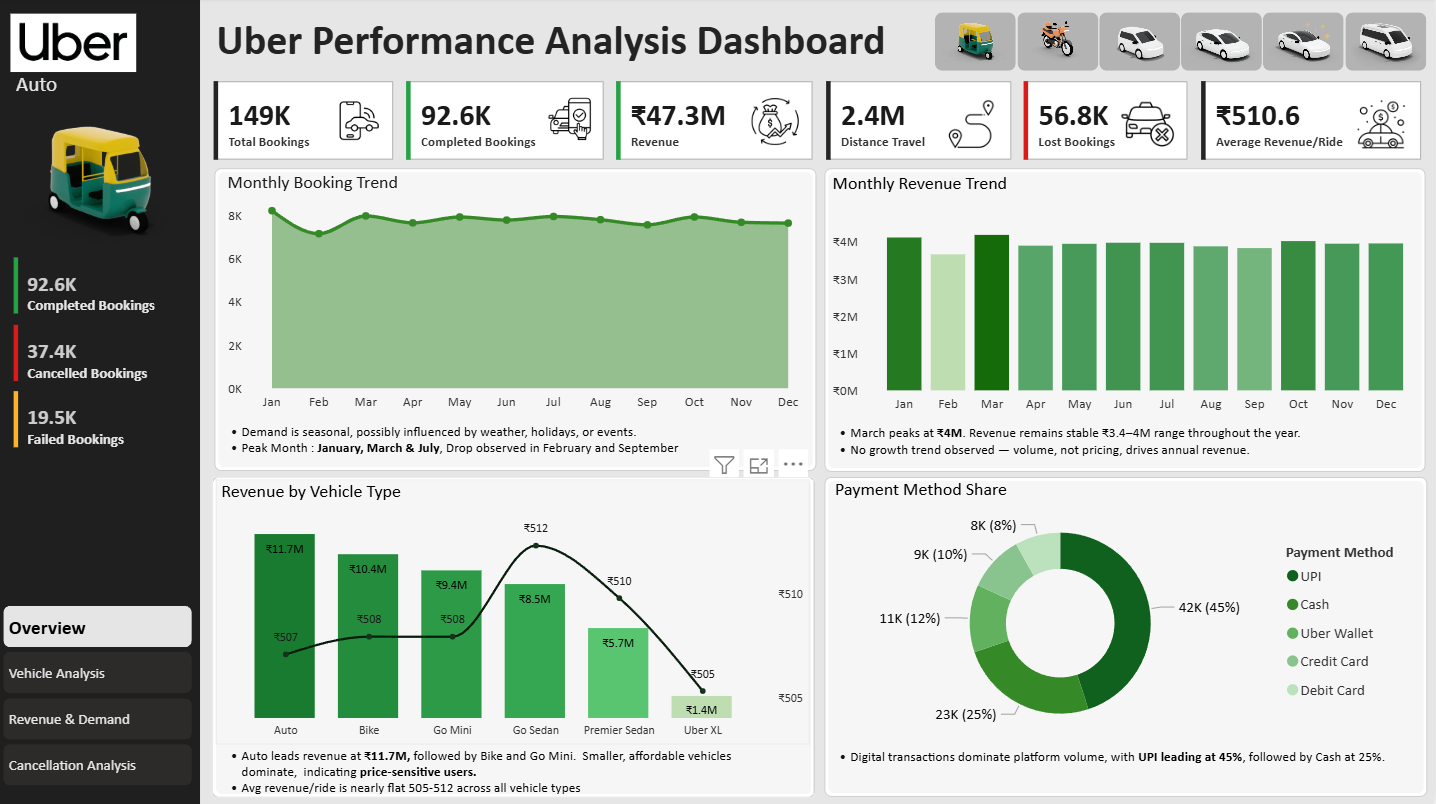

The page's visual inventory and layout, read from the dashboard file:
{"tool":"powerbi","page":{"name":"Overview","canvas":[1280,720],"ordinal":0},"visuals":[{"type":"textbox","box":[190,10.9,640.6,57.9],"z":0},{"type":"shape","box":[737.2,427.1,536.7,284.7],"z":0,"group":"g4"},{"type":"cardVisual","fields":{"Data":["_Measures.completed"]},"box":[359.3,70,186,80],"z":1000},{"type":"shape","box":[737.4,152,535.3,270],"z":1000,"group":"g2"},{"type":"cardVisual","fields":{"Data":["_Measures.total_booking_value"]},"box":[546.7,70,185.3,80],"z":2000},{"type":"cardVisual","fields":{"Data":["_Measures.total_distance"]},"box":[733.3,70,175.3,80],"z":3000},{"type":"cardVisual","fields":{"Data":["_Measures.lost_booking"]},"box":[910,70,156.7,80],"z":4000},{"type":"shape","box":[193.6,152,536,269.3],"z":4000,"group":"g1"},{"type":"cardVisual","fields":{"Data":["_Measures.total_bookings"]},"box":[188,70,170,80],"z":5000},{"type":"advancedSlicerVisual","fields":{"Values":["Veh_IMG.Vehicle Type"]},"box":[830,8.4,450,62.7],"z":6000},{"type":"shape","box":[0,0,181,720.2],"z":7000},{"type":"image","box":[6,9.7,124.3,61.5],"z":8000},{"type":"cardVisual","fields":{"Data":["Min(Veh_IMG.Vehicle Type)"]},"box":[0,41,156.8,59.1],"z":9000},{"type":"shape","box":[191.5,426.9,536.9,285.4],"z":9000,"group":"g3"},{"type":"cardVisual","fields":{"Data":["Min(Veh_IMG.Img)"]},"box":[0,53.1,181,219.6],"z":10000},{"type":"areaChart","title":"Monthly Booking Trend","fields":{"Category":["calender.Month"],"Y":["_Measures.completed"]},"box":[199.9,153.8,526.1,222.8],"z":11000,"group":"g1"},{"type":"cardVisual","fields":{"Data":["_Measures.total_bookings"]},"box":[9.7,226.8,155.6,60.3],"z":11000},{"type":"lineClusteredColumnComboChart","title":"Monthly Revenue Trend","fields":{"Category":["calender.Month"],"Y":["_Measures.revenue"]},"box":[739.6,155.9,534.3,223.6],"z":12000,"group":"g2"},{"type":"cardVisual","fields":{"Data":["_Measures.total_bookings"]},"box":[10,287.1,155,60],"z":12000},{"type":"cardVisual","fields":{"Data":["_Measures.total_bookings"]},"box":[10,346.5,155,60],"z":13000},{"type":"cardVisual","fields":{"Data":["_Measures.revenue_per_ride"]},"box":[1067.5,70,206.7,80],"z":14000},{"type":"lineClusteredColumnComboChart","title":"Revenue by Vehicle Type","fields":{"Category":["Uber.Vehicle"],"Y":["_Measures.revenue"],"Y2":["_Measures.revenue_per_ride"]},"box":[194.9,429.3,528.5,235.4],"z":15000,"group":"g3"},{"type":"pageNavigator","box":[6,541.7,168.9,160.5],"z":15000},{"type":"group","id":"g1","title":"Group 1","box":[193.6,152,536,269.3],"z":16000},{"type":"group","id":"g2","title":"Group 2","box":[737.1,152,536.9,270],"z":17000},{"type":"textbox","box":[195,379.1,517.1,38.6],"z":17000,"group":"g1"},{"type":"group","id":"g3","title":"Group 3","box":[191.5,426.9,536.9,286.5],"z":18000},{"type":"textbox","box":[195,667.7,516.4,45.7],"z":18000,"group":"g3"},{"type":"group","id":"g4","title":"Group 4","box":[737.1,427.1,536.9,284.7],"z":19000},{"type":"donutChart","title":"Payment Method Share","fields":{"Category":["Uber.Payment Method"],"Y":["_Measures.completed_bookings"]},"box":[741.9,427.7,528.3,239.3],"z":26000,"group":"g4"},{"type":"textbox","box":[737.1,375.5,518.4,46.3],"z":27000,"group":"g2"},{"type":"textbox","box":[737.1,664.6,517.4,45.5],"z":29000,"group":"g4"}]}

Visuals, with their boxes in screenshot pixels (x1, y1, x2, y2), scaled from the page's 1280x720 canvas onto the 1436x804 screenshot:
textbox: [213, 12, 932, 77]
shape: [827, 477, 1429, 795]
cardVisual - _Measures.completed: [403, 78, 612, 168]
shape: [827, 170, 1428, 471]
cardVisual - _Measures.total_booking_value: [613, 78, 821, 168]
cardVisual - _Measures.total_distance: [823, 78, 1019, 168]
cardVisual - _Measures.lost_booking: [1021, 78, 1197, 168]
shape: [217, 170, 819, 470]
cardVisual - _Measures.total_bookings: [211, 78, 402, 168]
advancedSlicerVisual - Veh_IMG.Vehicle Type: [931, 9, 1435, 79]
shape: [0, 0, 203, 803]
image: [7, 11, 146, 80]
cardVisual - Min(Veh_IMG.Vehicle Type): [0, 46, 176, 112]
shape: [215, 477, 817, 795]
cardVisual - Min(Veh_IMG.Img): [0, 59, 203, 305]
"Monthly Booking Trend" areaChart: [224, 172, 814, 421]
cardVisual - _Measures.total_bookings: [11, 253, 185, 321]
"Monthly Revenue Trend" lineClusteredColumnComboChart: [830, 174, 1429, 424]
cardVisual - _Measures.total_bookings: [11, 321, 185, 388]
cardVisual - _Measures.total_bookings: [11, 387, 185, 454]
cardVisual - _Measures.revenue_per_ride: [1198, 78, 1429, 168]
"Revenue by Vehicle Type" lineClusteredColumnComboChart: [219, 479, 812, 742]
pageNavigator: [7, 605, 196, 784]
"Group 1" group: [217, 170, 819, 470]
"Group 2" group: [827, 170, 1429, 471]
textbox: [219, 423, 799, 466]
"Group 3" group: [215, 477, 817, 797]
textbox: [219, 746, 798, 797]
"Group 4" group: [827, 477, 1429, 795]
"Payment Method Share" donutChart: [832, 478, 1425, 745]
textbox: [827, 419, 1409, 471]
textbox: [827, 742, 1407, 793]
